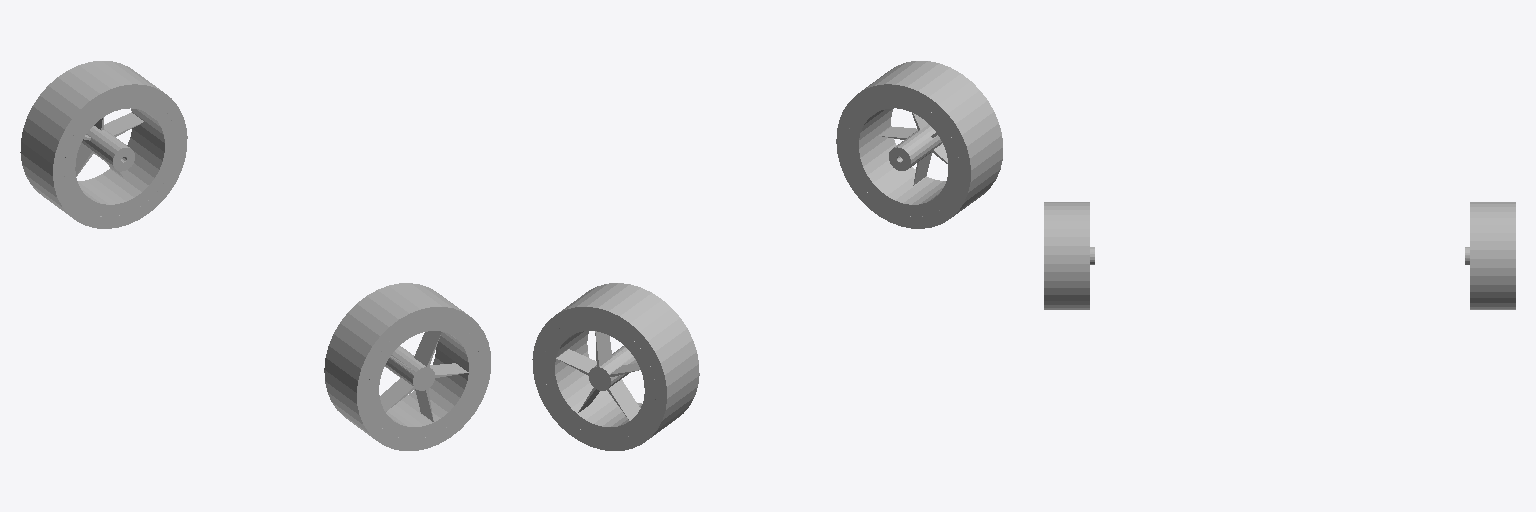
URDF robot description (robo1):
<?xml version="1.0" encoding="utf-8"?>
<!-- This URDF was automatically created by SolidWorks to URDF Exporter! Originally created by [author] ([email redacted]) 
     Commit Version: 1.6.0-4-g7f85cfe  Build Version: 1.6.7995.38578
     For more information, please see http://wiki.ros.org/sw_urdf_exporter -->
<robot
  name="robo1">
  <link
    name="base_link">
    <inertial>
      <origin
        xyz="-0.0323530900851333 8.81623232663054E-05 0.0217291276097757"
        rpy="0 0 0" />
      <mass
        value="3.12574344823051" />
      <inertia
        ixx="0.01018601448917"
        ixy="-8.33796032330377E-06"
        ixz="-0.000407909085553482"
        iyy="0.0140976172418165"
        iyz="-1.47428407923164E-06"
        izz="0.0225609670538444" />
    </inertial>
    <visual>
      <origin
        xyz="0 0 0"
        rpy="0 0 0" />
      <geometry>
        <mesh
          filename="package://robo1/meshes/base_link.STL" />
      </geometry>
      <material
        name="">
        <color
          rgba="0.792156862745098 0.819607843137255 0.933333333333333 1" />
      </material>
    </visual>
    <collision>
      <origin
        xyz="0 0 0"
        rpy="0 0 0" />
      <geometry>
        <mesh
          filename="package://robo1/meshes/base_link.STL" />
      </geometry>
    </collision>
  </link>
  <link
    name="left_wheel">
    <inertial>
      <origin
        xyz="0.139518625480654 0.117178631136488 -0.00460047339999899"
        rpy="0 0 0" />
      <mass
        value="0.0154842443751589" />
      <inertia
        ixx="6.32949606004191E-06"
        ixy="1.91368841868744E-22"
        ixz="-3.94833432709799E-22"
        iyy="1.06002362306982E-05"
        iyz="3.03605478601685E-20"
        izz="6.32949606004191E-06" />
    </inertial>
    <visual>
      <origin
        xyz="0 0 0"
        rpy="0 0 0" />
      <geometry>
        <mesh
          filename="package://robo1/meshes/left_wheel.STL" />
      </geometry>
      <material
        name="">
        <color
          rgba="0.752941176470588 0.752941176470588 0.752941176470588 1" />
      </material>
    </visual>
    <collision>
      <origin
        xyz="0 0 0"
        rpy="0 0 0" />
      <geometry>
        <mesh
          filename="package://robo1/meshes/left_wheel.STL" />
      </geometry>
    </collision>
  </link>
  <joint
    name="left_wheel_joint"
    type="continuous">
    <origin
      xyz="0 0 0"
      rpy="0 0 0" />
    <parent
      link="base_link" />
    <child
      link="left_wheel" />
    <axis
      xyz="0 1 0" />
    <limit
      effort="10"
      velocity="10" />
    <dynamics
      damping="0.1"
      friction="0.1" />
  </joint>
  <link
    name="right_wheel">
    <inertial>
      <origin
        xyz="0.13951863194603 -0.117057584149733 -0.00460047516341627"
        rpy="0 0 0" />
      <mass
        value="0.0154842443751589" />
      <inertia
        ixx="6.32949606004193E-06"
        ixy="1.44731743570129E-22"
        ixz="1.11835789100032E-21"
        iyy="1.06002362306982E-05"
        iyz="2.9096396200073E-20"
        izz="6.32949606004193E-06" />
    </inertial>
    <visual>
      <origin
        xyz="0 0 0"
        rpy="0 0 0" />
      <geometry>
        <mesh
          filename="package://robo1/meshes/right_wheel.STL" />
      </geometry>
      <material
        name="">
        <color
          rgba="0.752941176470588 0.752941176470588 0.752941176470588 1" />
      </material>
    </visual>
    <collision>
      <origin
        xyz="0 0 0"
        rpy="0 0 0" />
      <geometry>
        <mesh
          filename="package://robo1/meshes/right_wheel.STL" />
      </geometry>
    </collision>
  </link>
  <joint
    name="right_wheel_joint"
    type="continuous">
    <origin
      xyz="0 0 0"
      rpy="0 0 0" />
    <parent
      link="base_link" />
    <child
      link="right_wheel" />
    <axis
      xyz="0 -1 0" />
    <limit
      effort="10"
      velocity="10" />
    <dynamics
      damping="0.1"
      friction="0.1" />
  </joint>
</robot>

--- What the picture shows (computed from the rendered views, not written in the file) ---
Views: 3 orthographic renders of the robot side by side, from view 1: azimuth 30°, elevation 25°; view 2: azimuth 150°, elevation 25°; view 3: azimuth 270°, elevation 25°.
Model robo1 with 3 links and 2 joints (2 continuous), rooted at base_link, posed all joints at 0.
Visible links, largest first — view 1: right_wheel, left_wheel; view 2: left_wheel, right_wheel; view 3: left_wheel, right_wheel.
Link boxes in pixels (x1=…): right_wheel: x1=324, y1=283, x2=490, y2=450; left_wheel: x1=20, y1=61, x2=187, y2=228; left_wheel: x1=532, y1=283, x2=699, y2=450; right_wheel: x1=836, y1=61, x2=1002, y2=228; left_wheel: x1=1465, y1=202, x2=1515, y2=309; right_wheel: x1=1044, y1=202, x2=1094, y2=309.
Size in the robot's own frame: 0.06 by 0.2592 by 0.06 metres.
2 mesh visuals loaded from 3 distinct referenced files (2 binary STL); not drawn: 1 (reference not matched to a file when rendering).